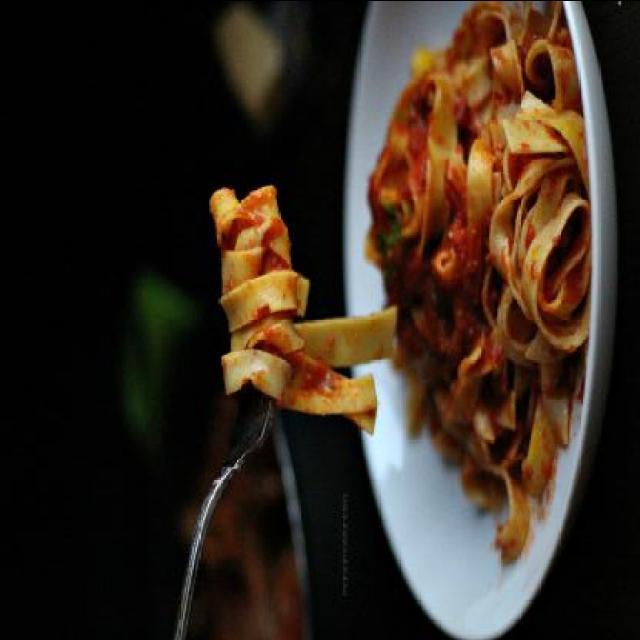Pasta al ragu: (178, 133, 329, 481)
